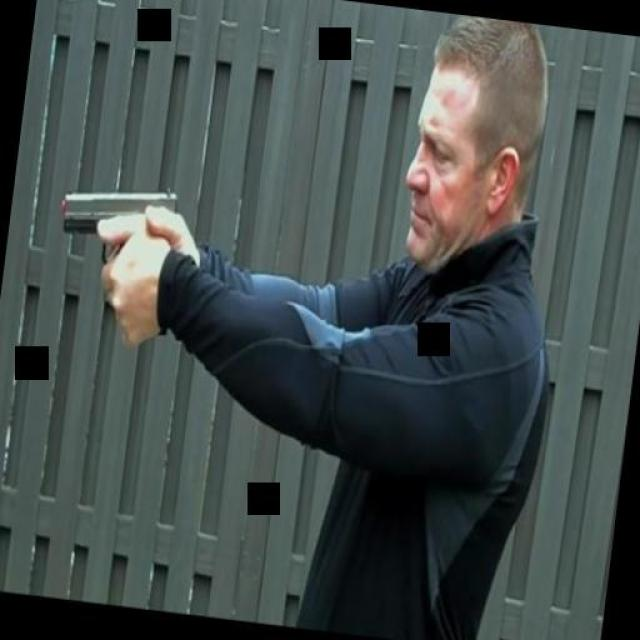gun: (40, 174, 188, 342)
